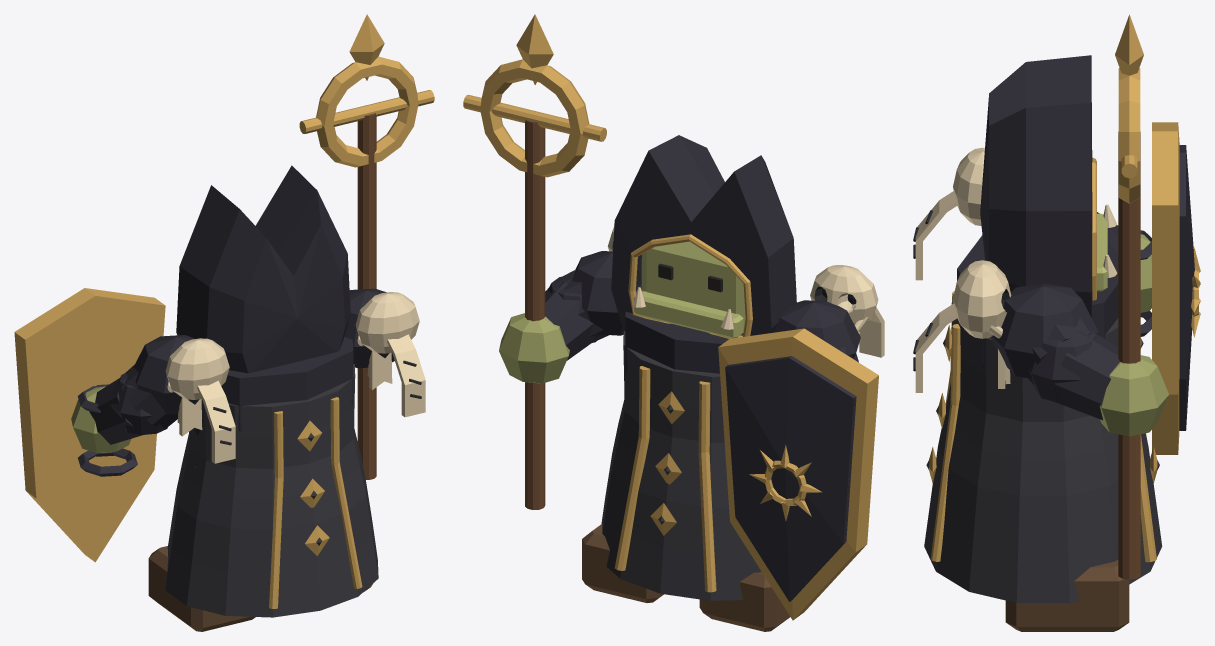
Rendered from host_31.glb.
The picture shows the model from 3 angles, left to right: view 1: azimuth 30°, elevation 25°; view 2: azimuth 150°, elevation 25°; view 3: azimuth 270°, elevation 25°; orthographic projection. The views are drawn at different scales.
Parts seen in each view (by area): view 1: V6 detail inquisitor continuous folded source robe, V6 source fitted domed cloth hood, Shield real back and rim, V6 inquisitor actual contacting ivory shoulder skull actual  (×2), V6 inquisitor source gold sun staff whole continuous held sh, Tailored continuous bodice, V6 inquisitor genuine hollow contacting sun ring, V6 inquisitor actual visible rear hanging ivory shoulder par (×2), Connected shoulder L, Grounded boot L, V6 detail inquisitor real gold rear robe facing, V6 detail inquisitor real gold rear robe facing.001 (+9 smaller); view 2: Shield inset front, V6 detail inquisitor continuous folded source robe, V6 source fitted domed cloth hood, Shield real back and rim, V6 inquisitor source gold sun staff whole continuous held sh, V6 inquisitor genuine hollow contacting sun ring, Observed face, Tailored continuous bodice, Grasping hand R, Grounded boot L, Connected shoulder R, Connected shoulder L (+11 smaller); view 3: V6 detail inquisitor continuous folded source robe, V6 source fitted domed cloth hood, Shield real back and rim, V6 inquisitor source gold sun staff whole continuous held sh, Grounded boot R, V6 inquisitor actual contacting ivory shoulder skull actual  (×2), Connected shoulder R, Grasping hand R, Shield inset front, Forearm R, V6 inquisitor genuine hollow contacting sun ring, Elbow contacting articulated joint R (+9 smaller).
Part boxes in pixels (x1,y1,x2,y2): V6 detail inquisitor continuous folded source robe: [165, 364, 378, 617]; V6 source fitted domed cloth hood: [176, 165, 350, 373]; Shield real back and rim: [14, 288, 165, 562]; V6 inquisitor actual contacting ivory shoulder skull actual  (×2): [165, 292, 419, 399]; V6 inquisitor source gold sun staff whole continuous held sh: [357, 113, 376, 479]; Tailored continuous bodice: [195, 337, 353, 435]; V6 inquisitor genuine hollow contacting sun ring: [316, 56, 418, 167]; V6 inquisitor actual visible rear hanging ivory shoulder par (×2): [197, 334, 425, 463]; Connected shoulder L: [133, 335, 204, 414]; Grounded boot L: [148, 546, 255, 631]; V6 detail inquisitor real gold rear robe facing: [269, 411, 283, 608]; V6 detail inquisitor real gold rear robe facing.001: [330, 397, 362, 588]; Shield inset front: [725, 356, 856, 601]; V6 detail inquisitor continuous folded source robe: [601, 331, 761, 600]; V6 source fitted domed cloth hood: [611, 135, 796, 335]; Shield real back and rim: [718, 328, 878, 620]; V6 inquisitor source gold sun staff whole continuous held sh: [525, 119, 545, 509]; V6 inquisitor genuine hollow contacting sun ring: [480, 59, 589, 177]; Observed face: [641, 241, 745, 330]; Tailored continuous bodice: [625, 311, 728, 374]; Grasping hand R: [499, 313, 569, 383]; Grounded boot L: [699, 572, 790, 631]; Connected shoulder R: [572, 251, 625, 335]; Connected shoulder L: [774, 300, 860, 357]; V6 detail inquisitor continuous folded source robe: [924, 301, 1162, 602]; V6 source fitted domed cloth hood: [980, 55, 1092, 317]; Shield real back and rim: [1152, 122, 1179, 454]; V6 inquisitor source gold sun staff whole continuous held sh: [1118, 131, 1140, 579]; Grounded boot R: [1005, 560, 1129, 631]; V6 inquisitor actual contacting ivory shoulder skull actual  (×2): [953, 147, 1011, 338]; Connected shoulder R: [991, 283, 1098, 378]; Grasping hand R: [1099, 355, 1168, 436]; Shield inset front: [1179, 145, 1194, 430]; Forearm R: [1052, 331, 1119, 420]; V6 inquisitor genuine hollow contacting sun ring: [1118, 68, 1140, 203]; Elbow contacting articulated joint R: [1028, 327, 1097, 402].
Bounding box in the file's own units: 1.48 × 1.9 × 0.7669.
